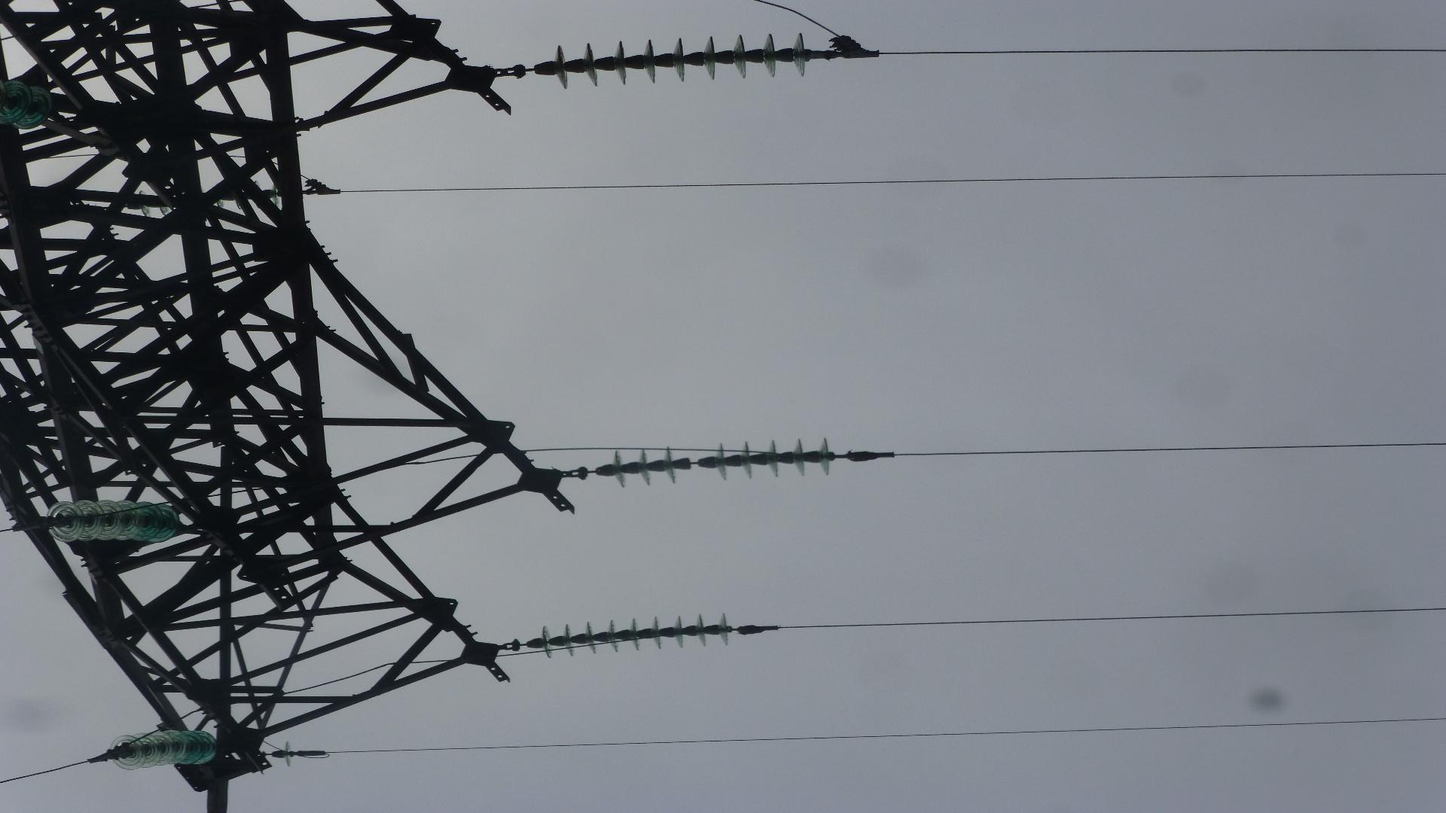insulator: (551, 26, 810, 93), (606, 433, 837, 494), (535, 609, 735, 662), (45, 497, 185, 546), (108, 726, 221, 772)
insulator_stringdrop: (660, 440, 731, 487)
